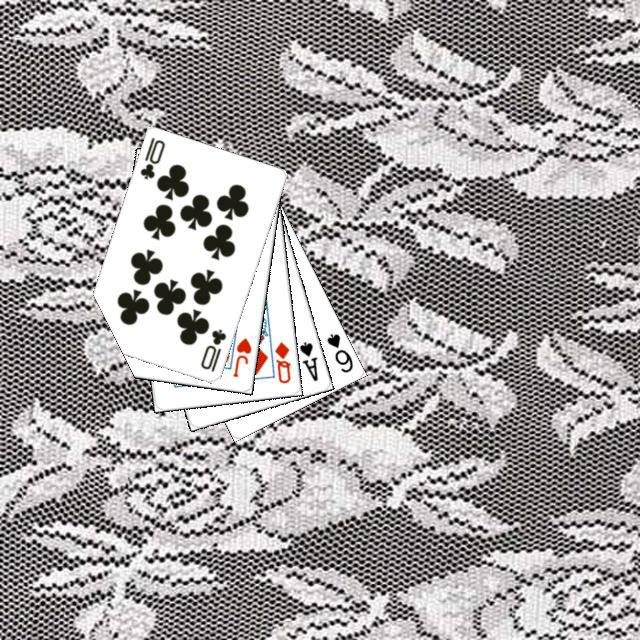10c: (195, 324, 228, 373), (135, 132, 167, 181)
6s: (322, 328, 355, 374)
As: (294, 337, 319, 383)
Jh: (228, 333, 253, 379)
Qd: (270, 337, 292, 385)
